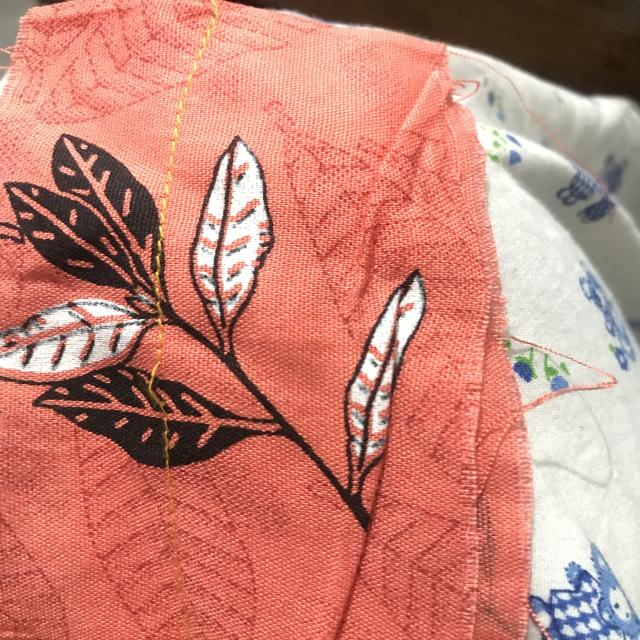good: (138, 148, 183, 230)
skip: (123, 341, 188, 432)
